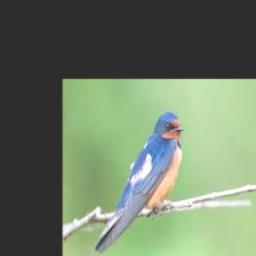Swallow: (94, 113, 184, 253)
